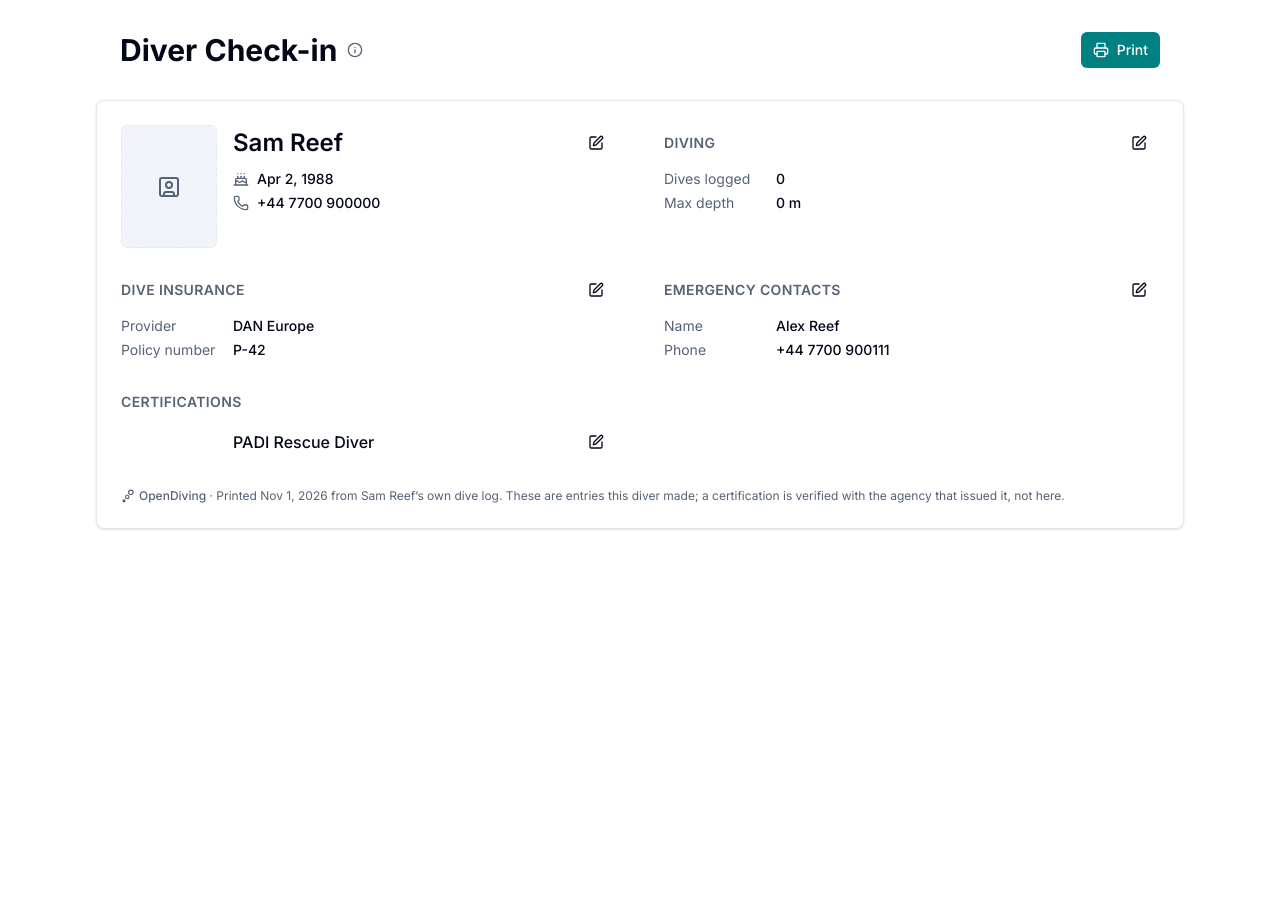
Test: correcting the diving figures › lets a diver whose log has nothing in it correct the count
Click the button named "Correct these figures". click: (1139, 143)
box: [1119,125,1159,161]
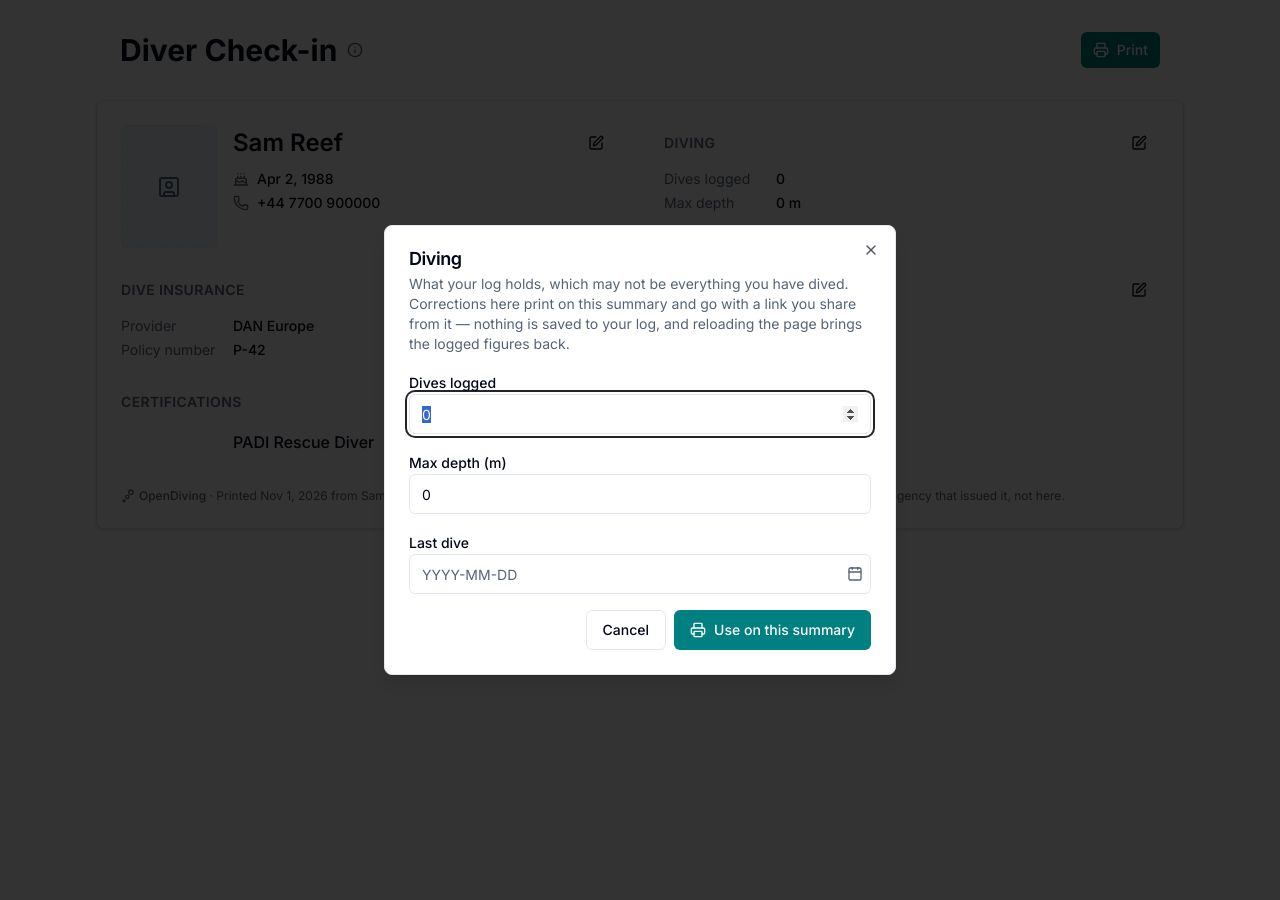
Now the number field labelled "Max depth (m)" holds "0", box [409,474,871,514]
Replace the text in the number field labelled "Dives logged" with "400". click: (640, 414)
box: [409,394,871,434]
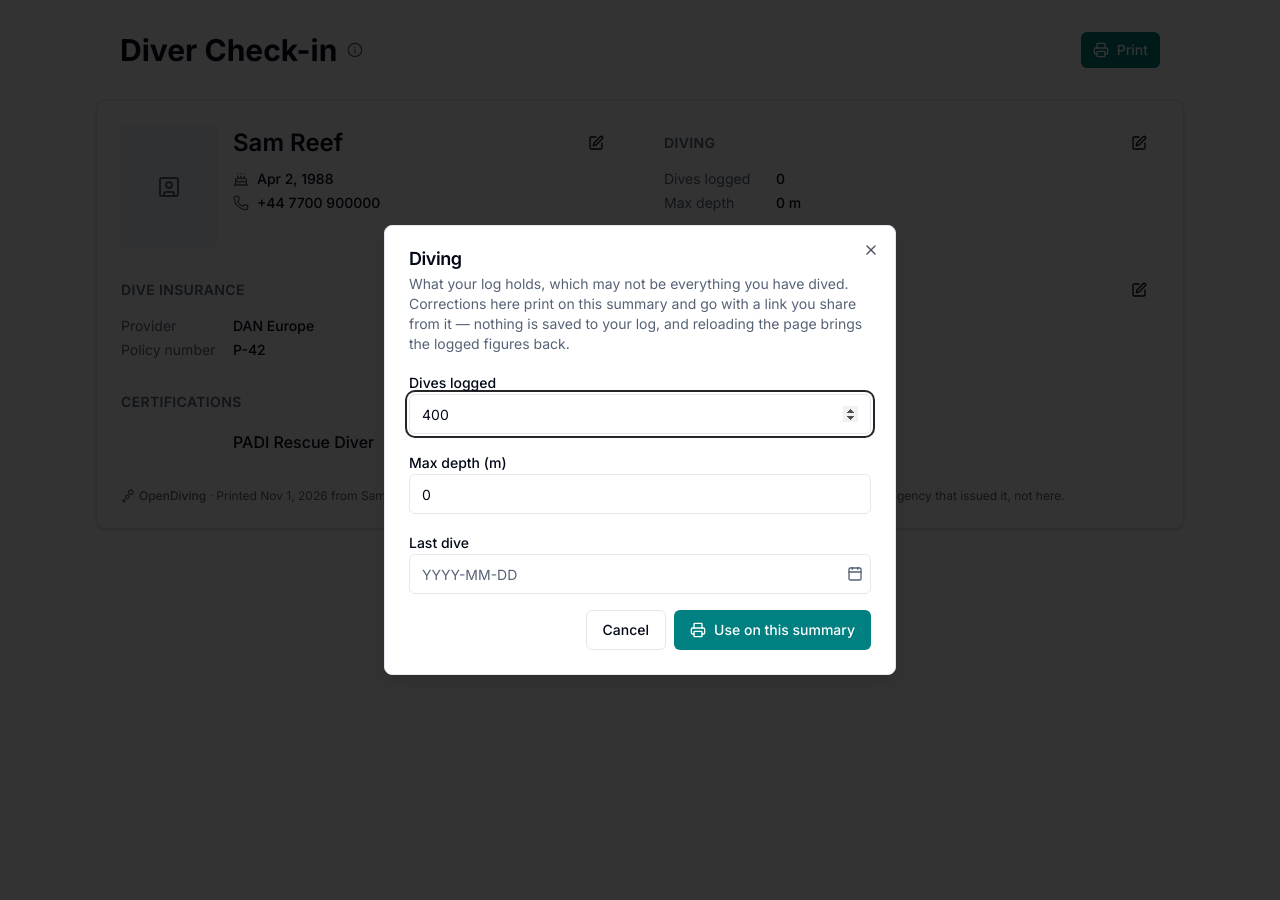
Click the button "Use on this summary". click: (773, 630)
box: [674,610,871,650]
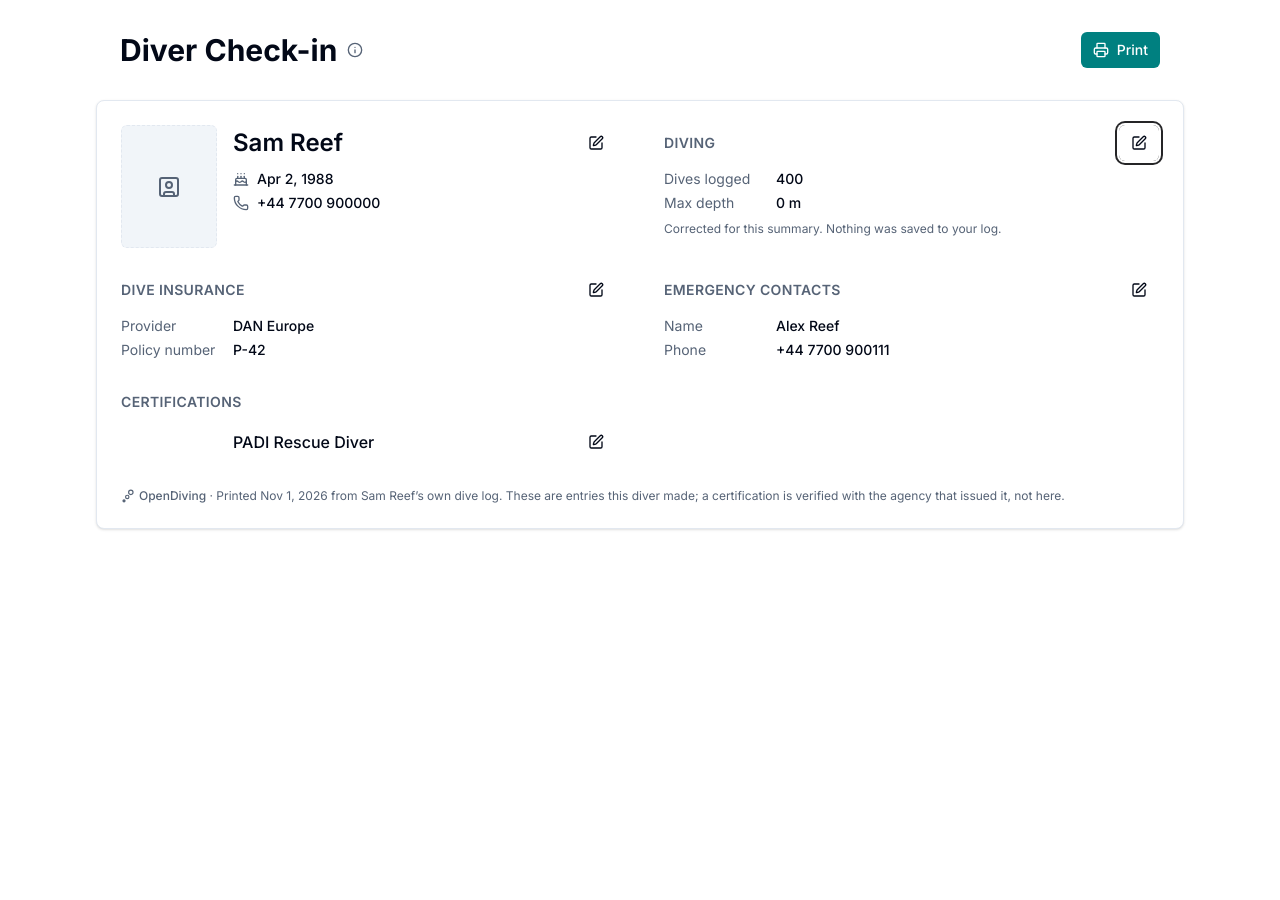
Now the text "400" is shown, box [776,170,803,187]
